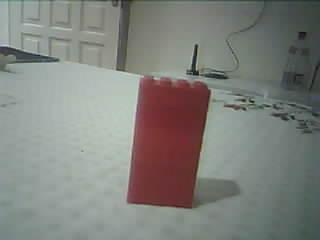lego: (126, 74, 212, 208)
